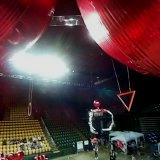Orange_Triangle_Gshape: (117, 90, 136, 112)
